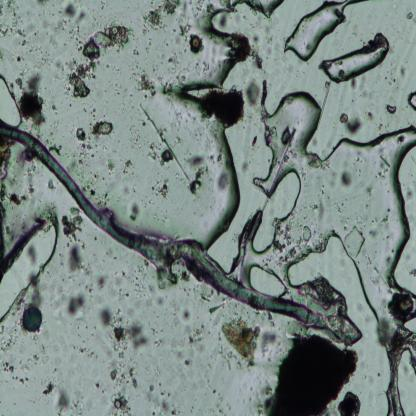Air bubble: (256, 85, 416, 327), (0, 215, 58, 323), (284, 0, 366, 62), (321, 31, 388, 83), (248, 262, 287, 296), (0, 77, 25, 127), (243, 0, 283, 16)
Background material: (261, 332, 362, 416), (138, 101, 191, 184), (163, 76, 247, 127), (77, 20, 136, 60), (220, 313, 260, 366), (299, 270, 340, 317), (73, 124, 98, 197), (100, 303, 128, 361), (17, 73, 44, 126), (141, 0, 180, 35), (247, 9, 278, 52), (15, 40, 54, 70), (276, 121, 299, 171), (66, 245, 95, 283), (145, 384, 179, 416), (132, 59, 156, 97), (389, 292, 416, 325), (0, 0, 24, 37), (30, 201, 59, 231), (342, 226, 368, 258), (272, 217, 295, 253), (317, 79, 333, 130), (18, 343, 48, 370), (62, 205, 82, 243), (185, 321, 208, 351), (64, 73, 90, 99), (0, 136, 15, 180), (134, 263, 150, 303), (127, 321, 149, 350), (230, 34, 251, 64), (341, 390, 365, 416), (54, 384, 73, 416), (0, 198, 10, 258), (188, 164, 208, 194), (65, 60, 97, 78), (110, 389, 131, 416), (296, 225, 314, 256), (374, 146, 390, 180), (7, 216, 26, 244), (67, 288, 85, 316), (1, 322, 17, 353), (249, 43, 266, 72), (161, 76, 185, 96), (149, 175, 169, 198), (126, 123, 143, 150), (276, 246, 298, 266), (244, 78, 259, 107), (39, 376, 58, 398), (110, 362, 126, 388), (89, 120, 112, 138), (31, 277, 43, 311), (265, 119, 280, 146), (308, 154, 328, 172), (216, 171, 232, 193), (166, 51, 180, 74), (49, 18, 70, 33), (260, 333, 275, 353), (147, 140, 161, 161), (198, 19, 214, 37), (71, 392, 83, 416), (312, 233, 328, 251), (345, 117, 362, 133), (340, 170, 355, 188), (127, 366, 139, 388), (180, 0, 192, 22), (0, 180, 10, 206), (120, 157, 133, 177), (217, 12, 232, 29), (29, 122, 43, 140), (10, 192, 28, 206), (159, 148, 173, 166), (128, 202, 140, 223), (314, 200, 326, 221), (27, 245, 39, 266), (208, 302, 228, 314), (75, 345, 95, 357), (71, 9, 86, 25), (179, 23, 193, 40), (116, 285, 129, 302), (186, 154, 204, 166), (300, 166, 308, 192), (97, 192, 109, 209), (328, 168, 338, 188), (407, 87, 416, 109), (49, 144, 63, 158), (64, 4, 78, 18), (22, 148, 36, 162), (0, 359, 14, 373), (96, 273, 108, 289), (352, 151, 365, 165), (240, 160, 253, 174), (219, 0, 234, 12), (191, 0, 202, 16), (10, 375, 29, 384), (386, 275, 396, 292), (403, 186, 414, 201), (24, 165, 39, 176), (182, 306, 192, 321), (201, 290, 213, 302), (385, 104, 397, 116), (45, 178, 56, 191), (262, 383, 272, 397), (205, 2, 216, 14), (19, 64, 30, 76), (340, 112, 350, 125), (201, 60, 210, 74), (48, 34, 57, 48), (171, 30, 180, 44), (180, 270, 190, 282), (39, 17, 49, 29), (55, 60, 65, 72), (365, 109, 374, 122), (68, 28, 76, 42), (216, 393, 224, 407), (216, 153, 224, 167), (182, 358, 193, 368), (396, 134, 406, 145), (173, 134, 182, 146), (58, 0, 65, 15), (380, 213, 388, 226), (193, 61, 200, 75), (156, 71, 163, 85), (54, 119, 62, 131), (350, 78, 358, 90), (399, 66, 407, 78), (106, 160, 114, 172), (211, 47, 216, 66), (28, 179, 34, 194), (405, 11, 415, 20), (146, 38, 152, 53), (154, 338, 164, 347), (17, 28, 26, 38), (101, 384, 109, 395), (207, 152, 215, 163), (127, 307, 135, 318), (267, 310, 274, 322), (338, 216, 350, 223), (183, 286, 192, 295), (364, 186, 373, 195), (180, 65, 190, 73), (308, 202, 316, 212), (28, 23, 36, 33), (36, 0, 49, 6), (365, 254, 372, 265), (356, 215, 363, 226), (369, 274, 376, 285), (142, 259, 150, 268), (120, 101, 126, 113), (105, 248, 114, 256), (132, 48, 140, 57), (252, 136, 258, 148), (89, 111, 96, 121), (368, 230, 378, 237), (52, 105, 58, 116), (114, 82, 122, 90), (373, 266, 380, 275), (155, 297, 164, 304), (100, 0, 106, 10), (65, 86, 71, 96), (360, 76, 364, 91), (376, 123, 383, 131), (89, 286, 96, 294), (370, 216, 378, 223), (129, 185, 136, 193), (362, 91, 369, 99), (121, 269, 126, 280), (161, 214, 167, 223), (409, 269, 416, 276), (152, 328, 158, 336), (90, 21, 96, 29), (313, 139, 319, 147), (226, 402, 232, 410), (411, 155, 416, 164), (124, 187, 129, 196), (0, 50, 4, 61), (94, 382, 101, 388), (385, 256, 391, 263), (336, 206, 342, 213), (54, 74, 60, 81), (320, 186, 324, 196), (377, 370, 382, 378), (76, 25, 80, 34), (387, 80, 393, 86), (96, 60, 100, 68), (365, 202, 369, 210), (92, 13, 96, 21), (105, 62, 110, 68), (41, 117, 46, 123), (205, 121, 211, 126), (78, 47, 84, 52), (116, 68, 121, 74), (384, 122, 390, 127), (218, 409, 224, 414), (45, 138, 49, 145), (162, 53, 166, 60), (10, 82, 14, 89), (81, 243, 85, 250), (83, 107, 87, 114), (93, 236, 98, 241), (163, 38, 168, 43), (142, 121, 147, 126), (211, 389, 216, 394), (53, 367, 58, 372), (66, 242, 70, 248), (49, 131, 53, 137), (380, 116, 384, 122), (392, 77, 396, 83), (79, 2, 83, 8), (144, 201, 147, 208), (72, 344, 75, 351), (378, 285, 381, 292), (191, 406, 194, 413), (38, 12, 42, 17), (92, 107, 96, 112), (358, 168, 362, 173), (184, 48, 188, 53), (77, 334, 82, 338), (152, 213, 156, 218), (391, 249, 395, 254), (101, 176, 105, 181), (103, 145, 107, 150), (93, 324, 96, 330), (168, 392, 171, 398), (60, 262, 64, 266), (79, 41, 83, 45), (42, 10, 46, 14), (192, 211, 196, 215), (159, 382, 162, 387), (51, 12, 54, 17), (144, 94, 147, 99), (51, 2, 54, 7), (386, 209, 391, 212), (69, 103, 72, 108), (82, 340, 85, 344), (177, 410, 181, 413), (386, 236, 390, 239), (137, 5, 140, 9), (64, 42, 67, 46), (116, 92, 120, 95), (148, 200, 151, 204), (132, 171, 134, 176), (251, 387, 253, 392), (104, 88, 106, 93), (76, 43, 79, 46), (36, 73, 39, 76), (214, 134, 217, 137), (86, 325, 88, 329), (76, 37, 78, 41), (166, 42, 168, 46), (385, 76, 387, 80), (113, 257, 117, 259), (45, 87, 47, 90), (130, 94, 132, 97), (96, 21, 98, 24), (208, 378, 209, 384), (341, 204, 344, 206), (48, 53, 50, 56), (161, 61, 163, 64), (158, 218, 160, 221), (35, 33, 37, 36), (375, 250, 377, 253), (345, 199, 347, 201), (130, 21, 132, 23), (103, 115, 105, 117), (78, 328, 79, 330)
Cellulose filter fibre: (386, 324, 416, 414)
Diatom: (20, 308, 45, 332), (192, 36, 202, 52)
Microfibre: (0, 119, 349, 343)
